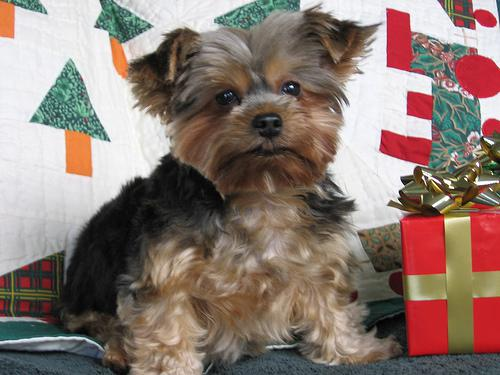dog-yorkshire_terrier: (141, 10, 358, 179)
